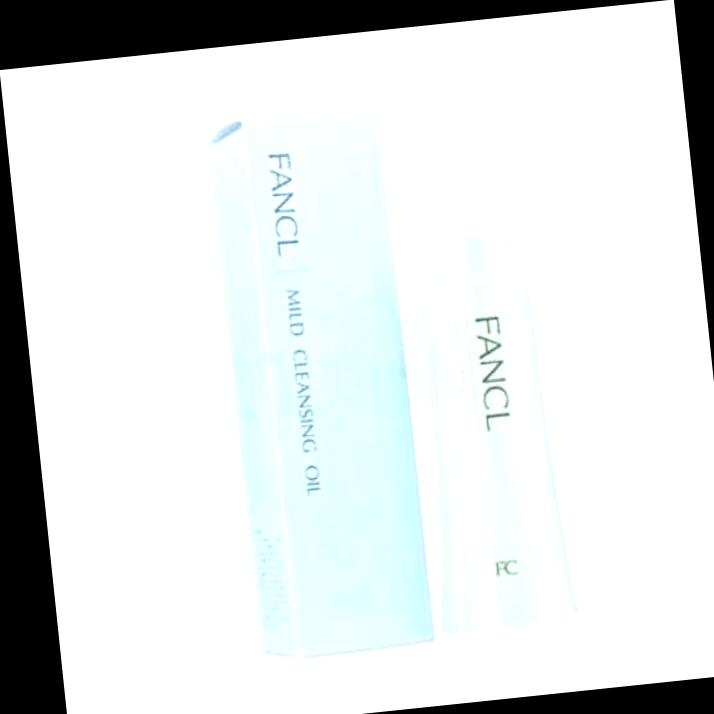cosmetic: (389, 112, 592, 632)
